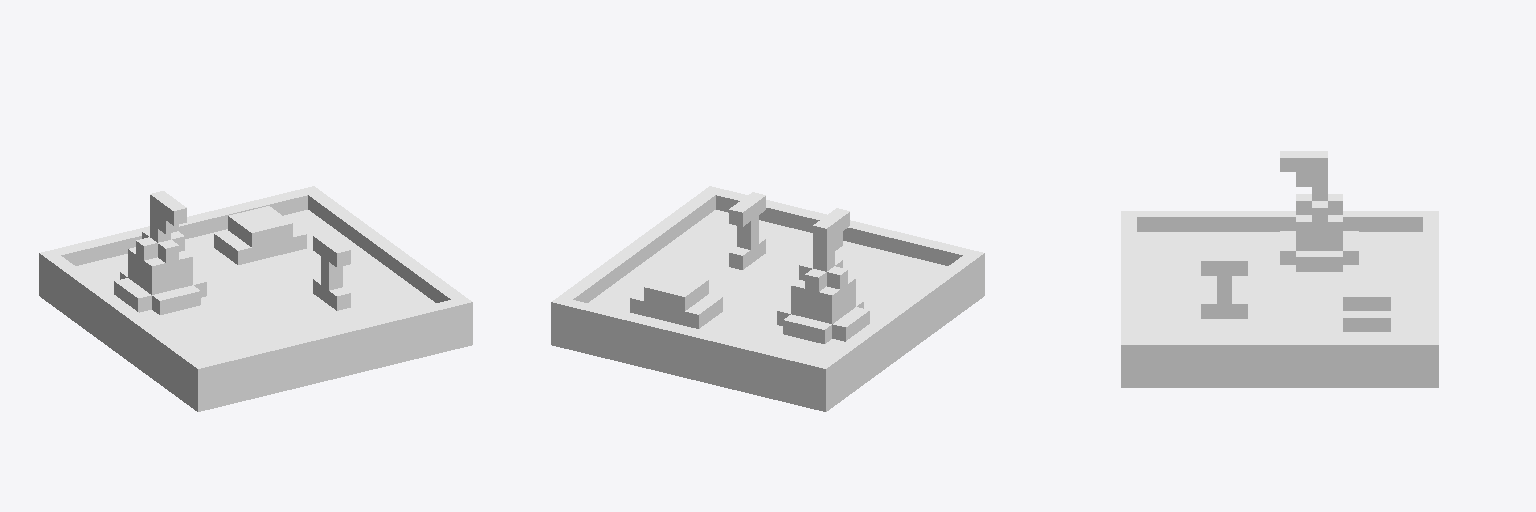
The model's file is sand.obj.
3 views of the same model, side by side, from view 1: azimuth 30°, elevation 25°; view 2: azimuth 150°, elevation 25°; view 3: azimuth 270°, elevation 25° (orthographic).
Parts seen in each view (by area): view 1: object 1; view 2: object 1; view 3: object 1.
Boxes of the visible parts, x1=… form: object 1: x1=39, y1=186, x2=472, y2=411; object 1: x1=551, y1=186, x2=984, y2=411; object 1: x1=1121, y1=151, x2=1438, y2=387.
Size of the model in its own units: 2 by 0.9 by 2.